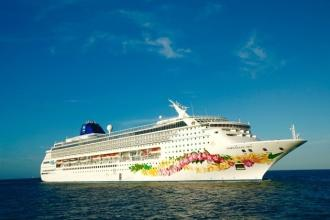youlun: (36, 106, 308, 182)
